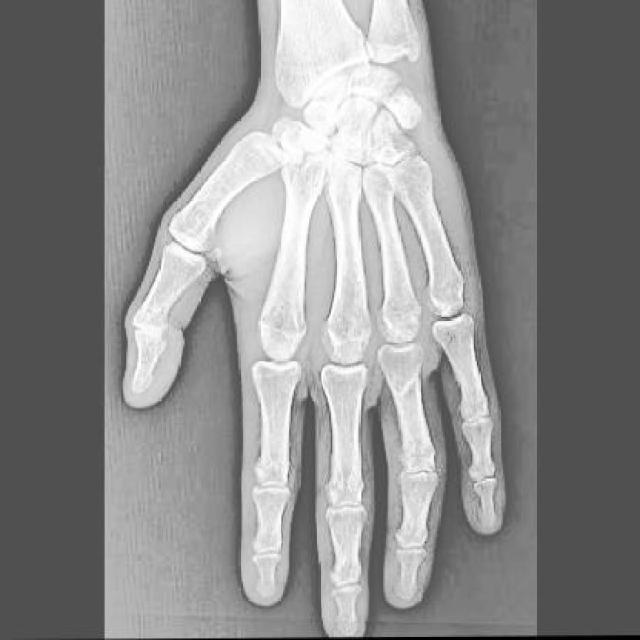Fracture: (131, 306, 170, 360)
